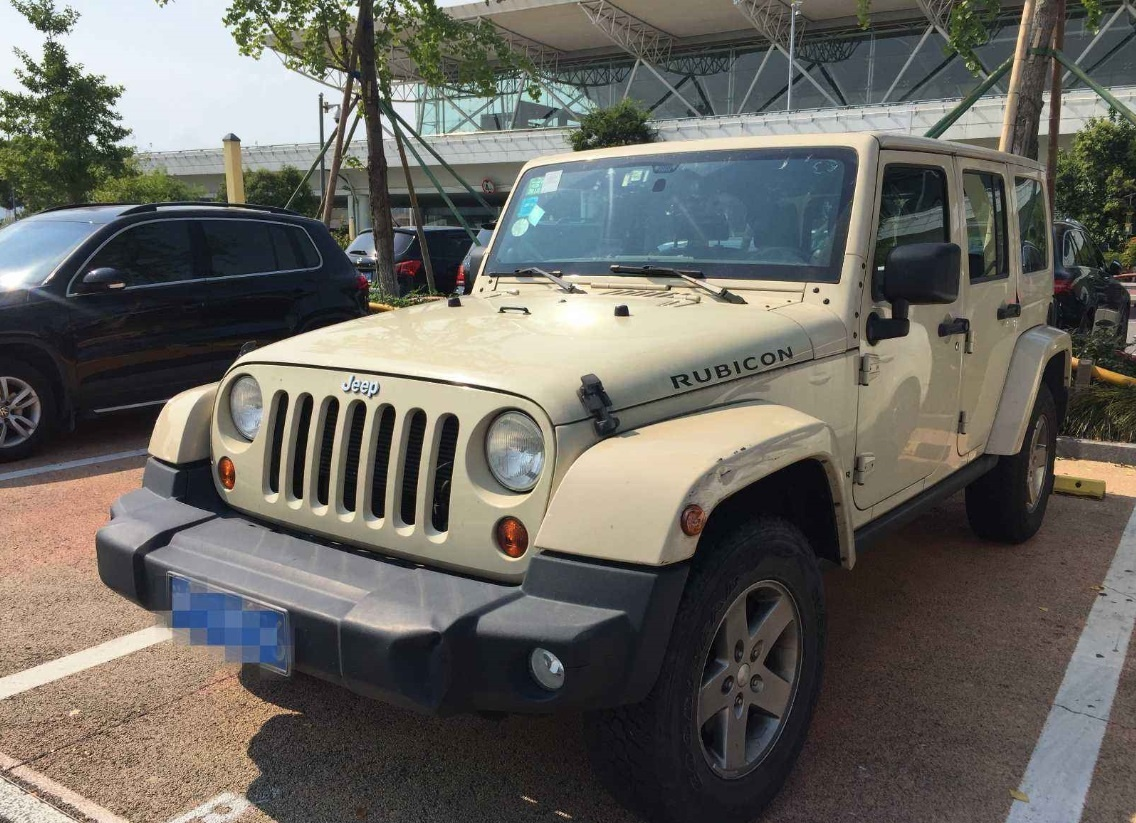jeep: (147, 116, 1099, 774)
